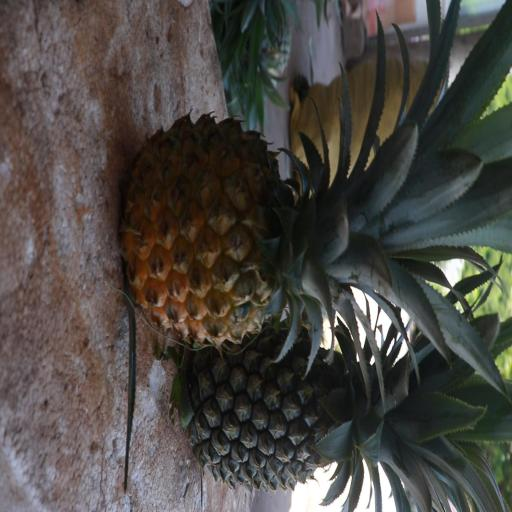Pineapple - v8 v1: (126, 113, 469, 349)
